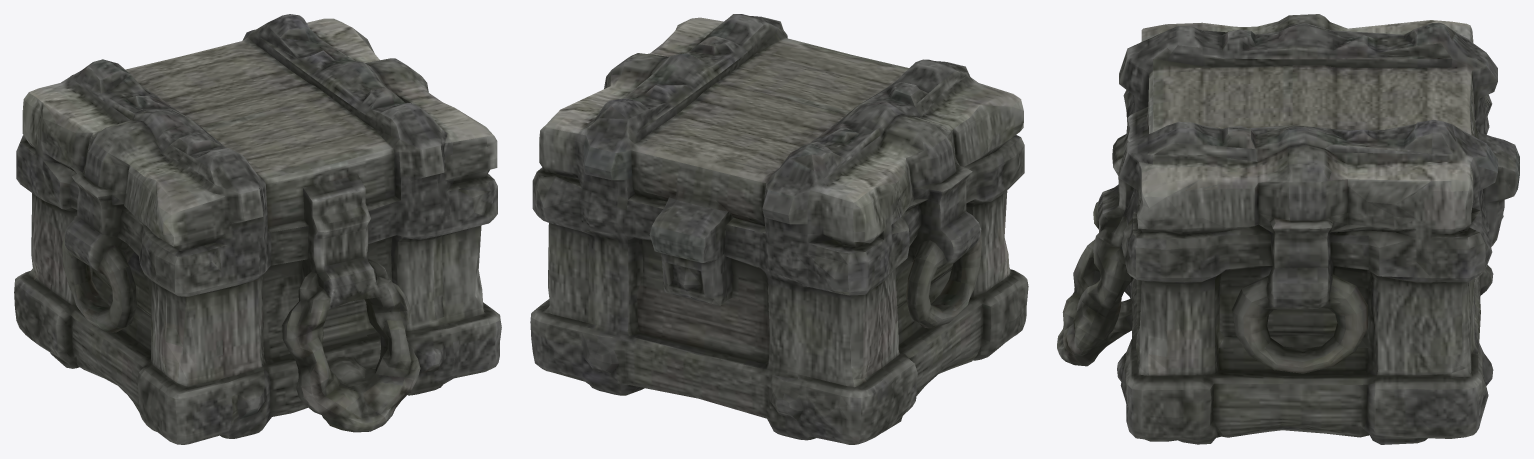
File: chest_iron_b.glb
3 views of the same model, side by side, from view 1: azimuth 30°, elevation 25°; view 2: azimuth 150°, elevation 25°; view 3: azimuth 270°, elevation 25° (orthographic). The views are drawn at different scales.
Bounding box in the file's own units: 1.88 × 1.33 × 1.91.
1 material, 1 textured.
